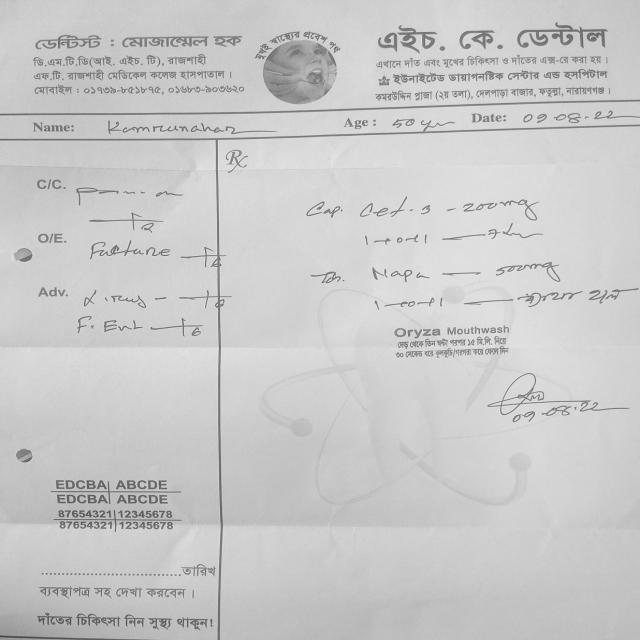Cef-3: (351, 198, 438, 224)
Napa: (366, 262, 433, 286)
